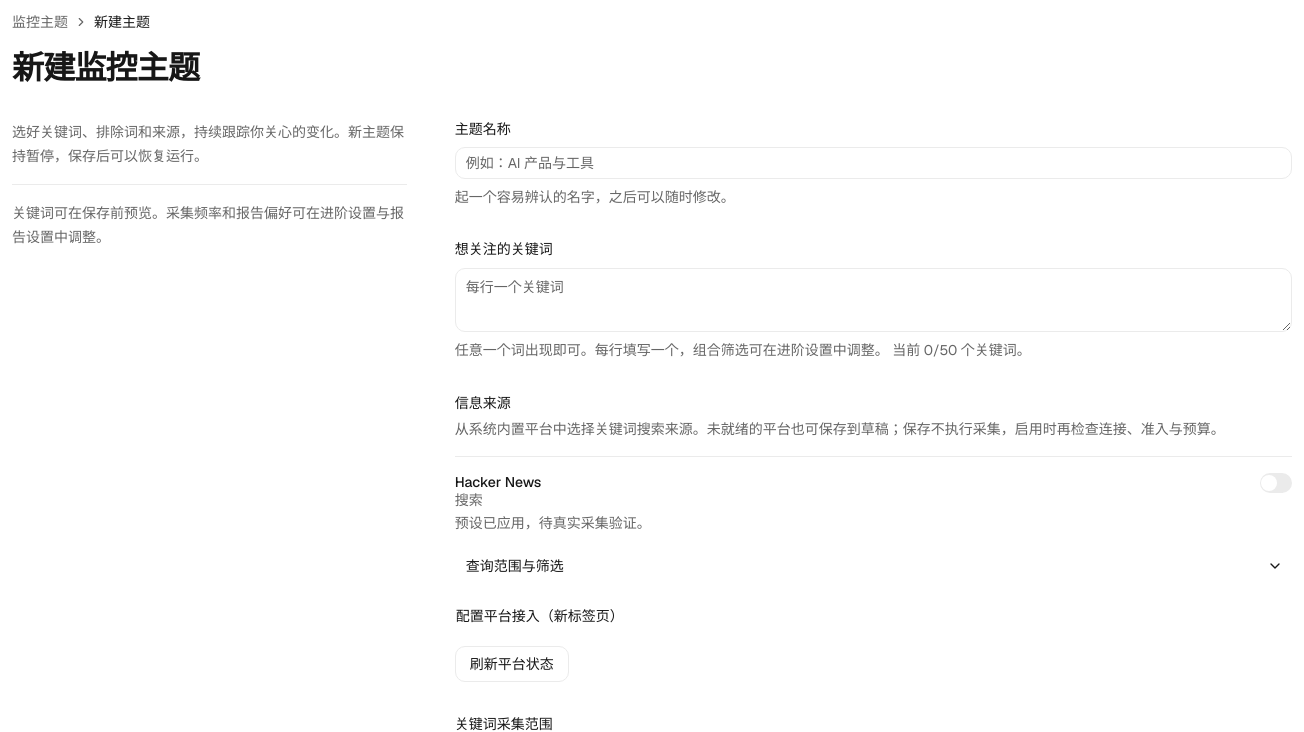
Test: core topic creation › explains current source filters without saving or collecting
The width and height of the screenshot is (1304, 732).
Click the button with aria-label "Hacker News查询范围与筛选". click: click(515, 566)
box: [455,550,1292,582]
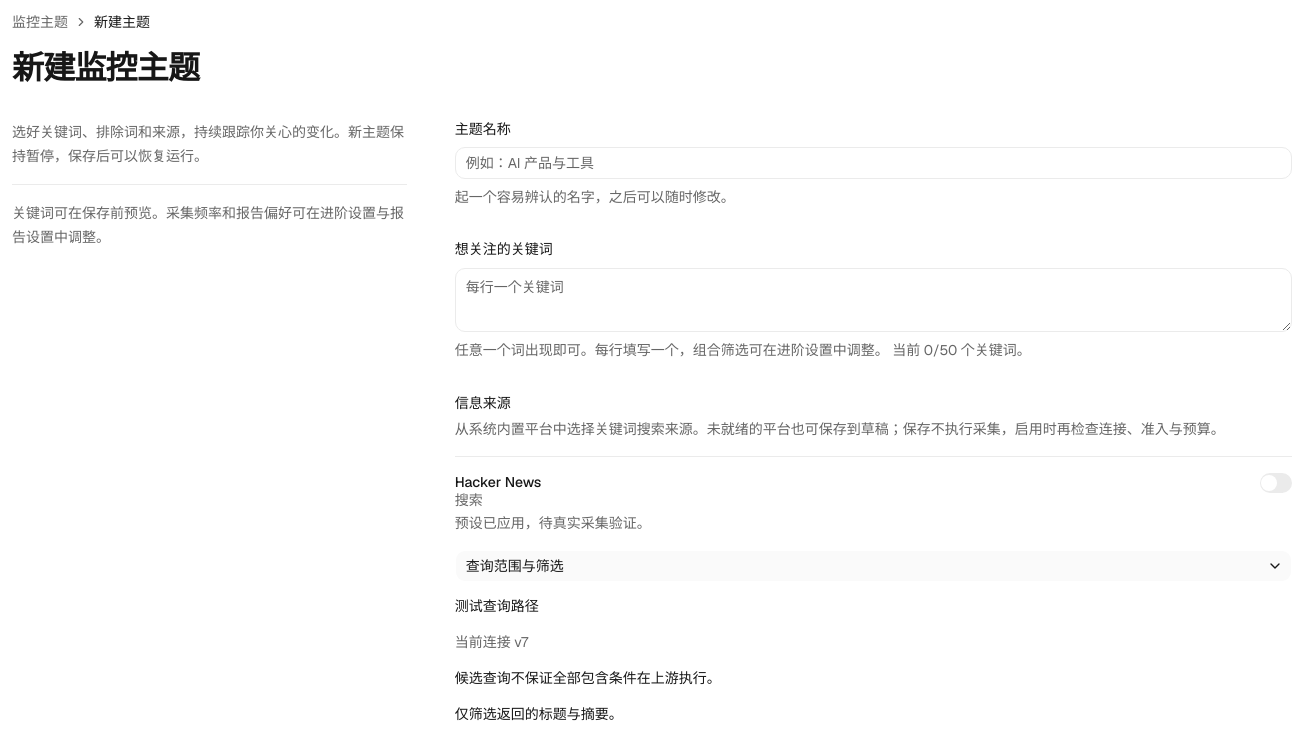
Result: the text "当前连接 v7" is shown at [455,633,528,651]
